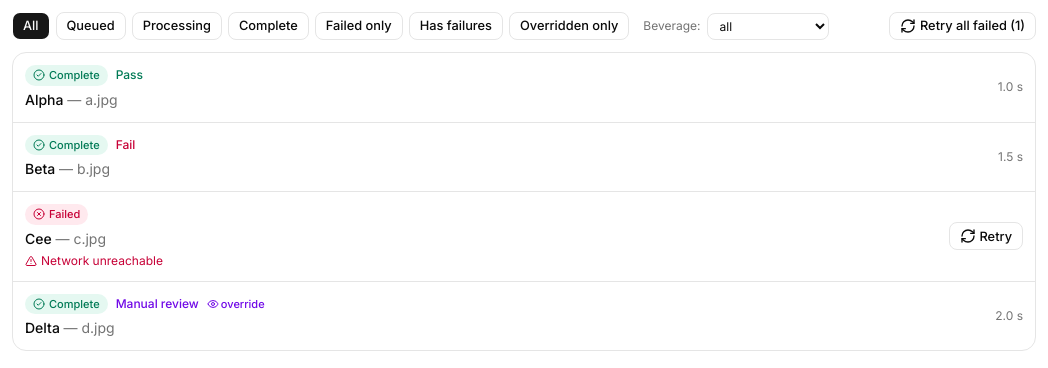
Test: BatchQueue › Reset filters also clears the beverage filter
The image size is (1048, 368).
Select "wine" in the dropdown named "beverage filter" at (768, 26), box [706,12,828,40]
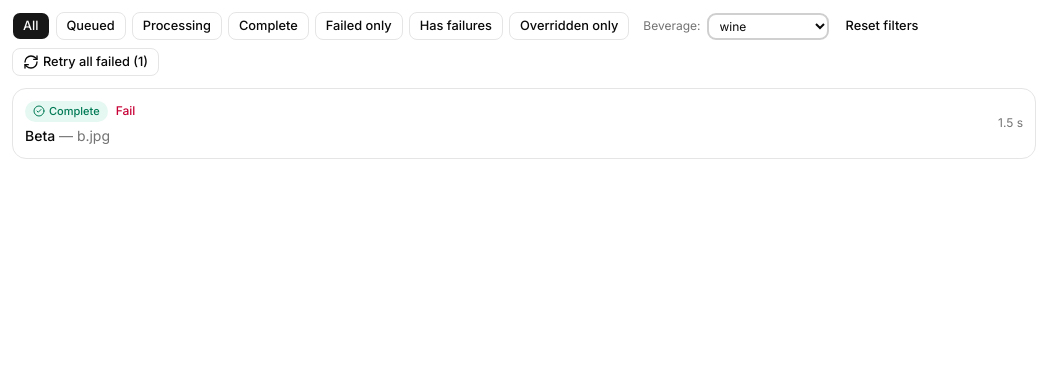
Result: the number of list items with test id "batch-queue-row" is 1 at [13,89,1035,158]
Click the button "Reset filters" at (882, 26), box [834,12,929,40]
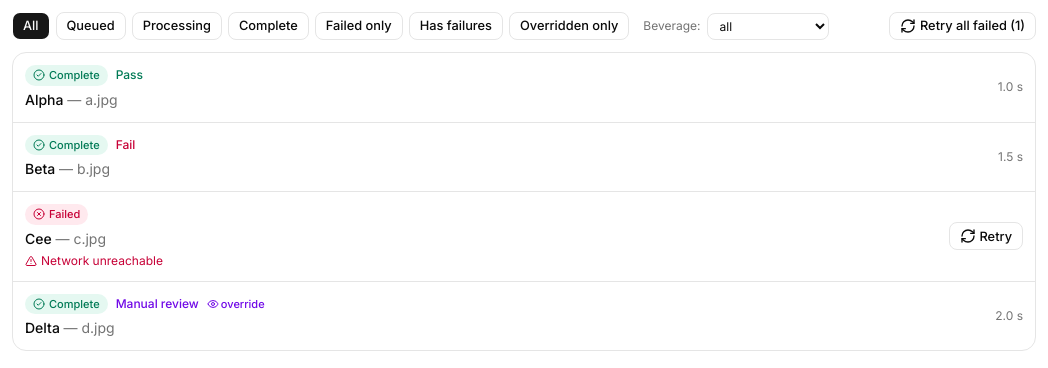
Result: the number of list items with test id "batch-queue-row" is 4 at [13,53,1035,122]; [13,122,1035,192]; [13,192,1035,282]; [13,282,1035,350]
